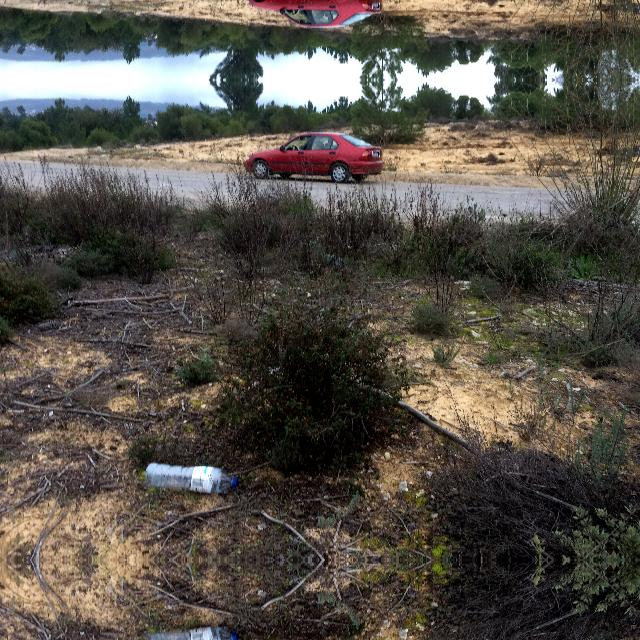Plastic: (138, 453, 248, 502), (137, 617, 248, 640)
